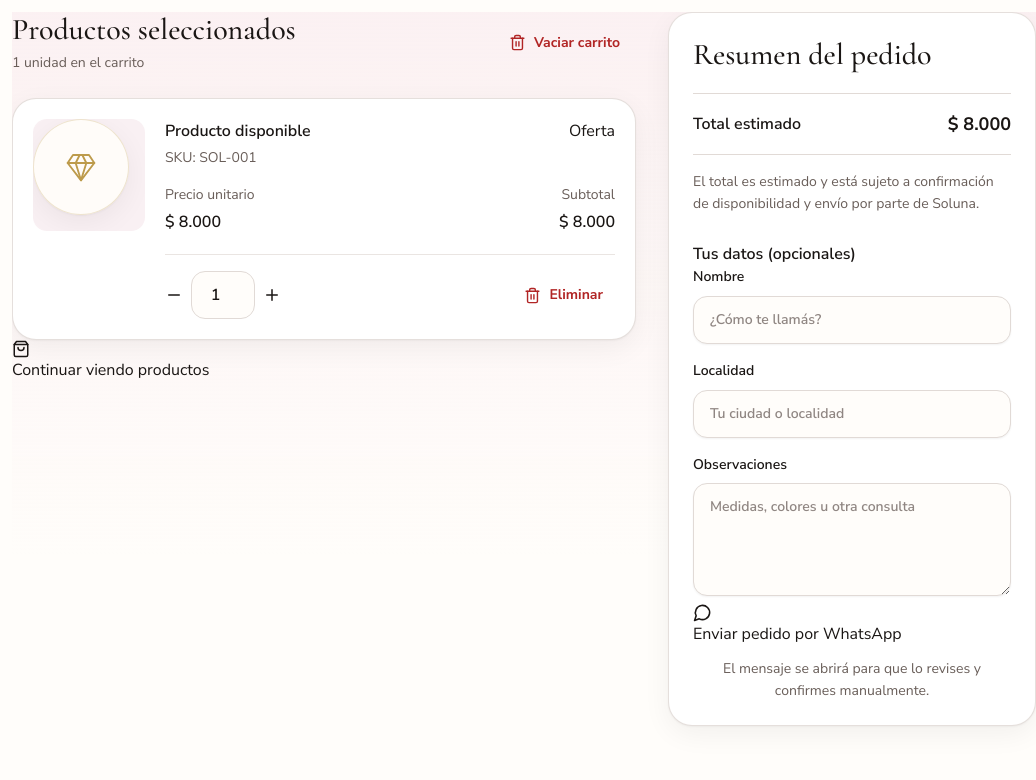
it: CartPage › keeps quantity at one when decreasing and removes only explicitly
Click the button "Eliminar" at (564, 295), box [512,273,615,317]
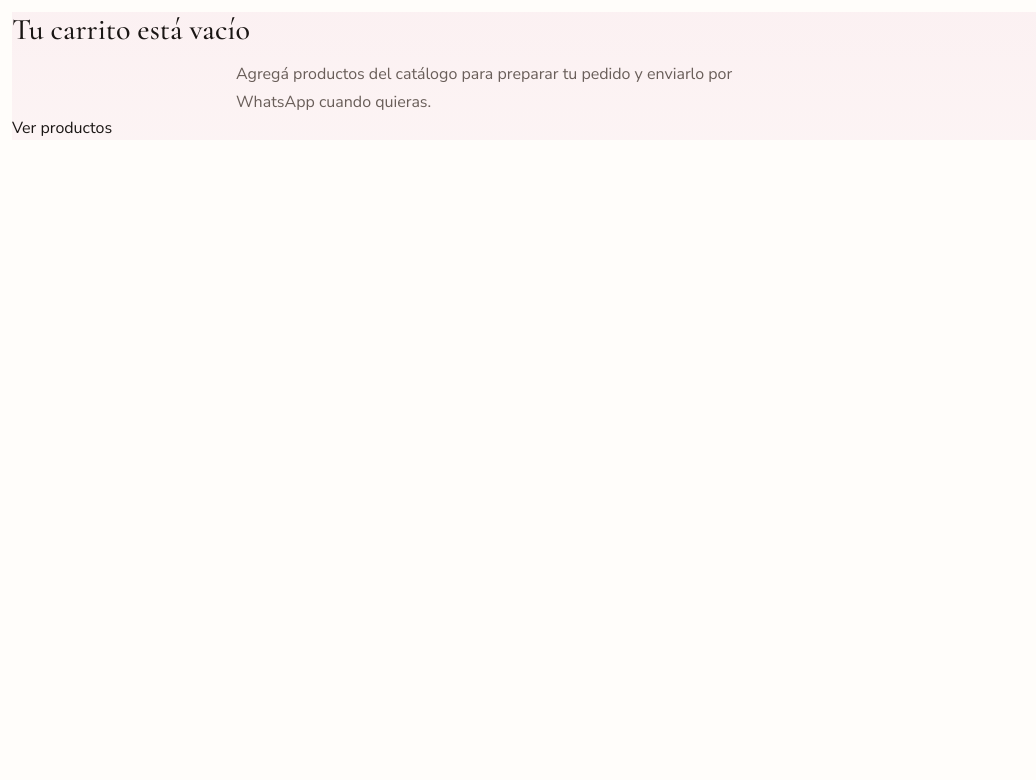
Check: the heading "Tu carrito está vacío" is shown, box [12,11,250,48]
